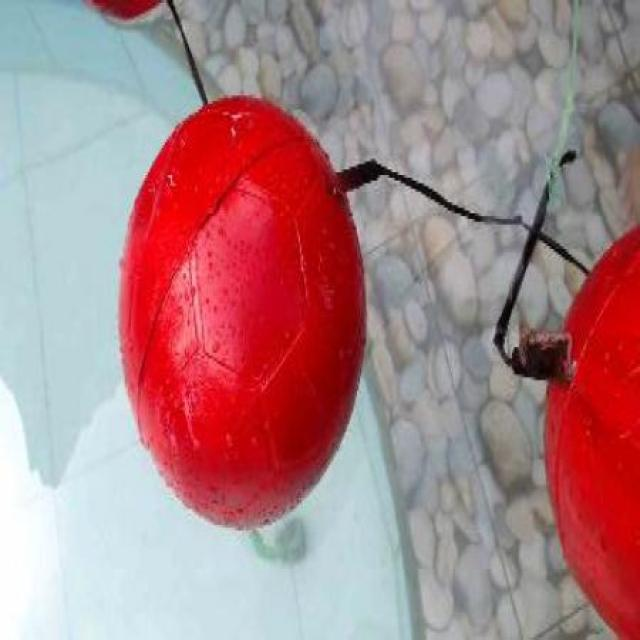buoy: (118, 94, 366, 529), (543, 223, 639, 636)
